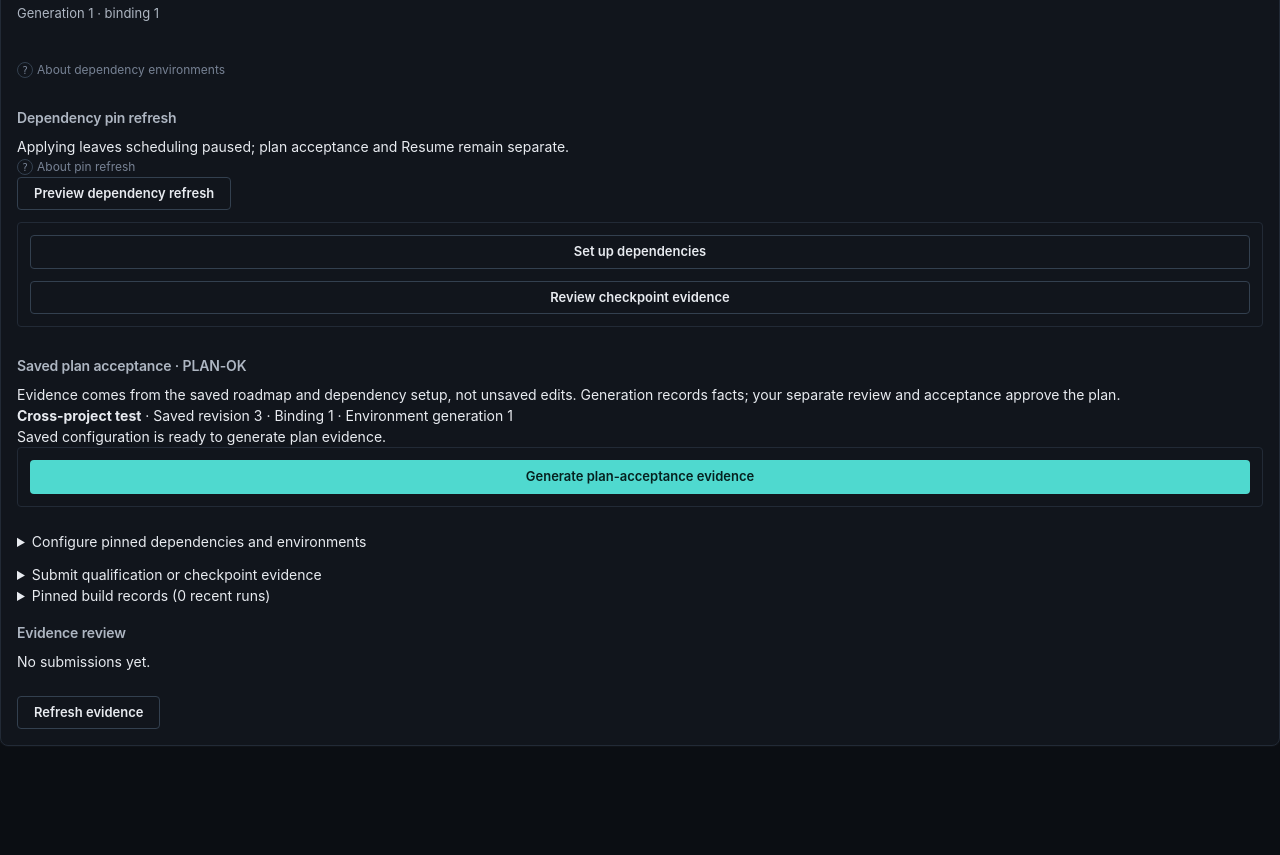
Test: separates saved readiness, evidence generation and explicit independent plan acceptance
Check: the text "Saved configuration is ready to generate plan evidence." is shown, box [17,428,386,445]
Check: the heading "Saved plan acceptance · PLAN-OK" is shown, box [17,357,246,374]
Step 1. Click the button "Generate plan-acceptance evidence" → (640, 477), box [30,460,1250,494]
(page scrolled)
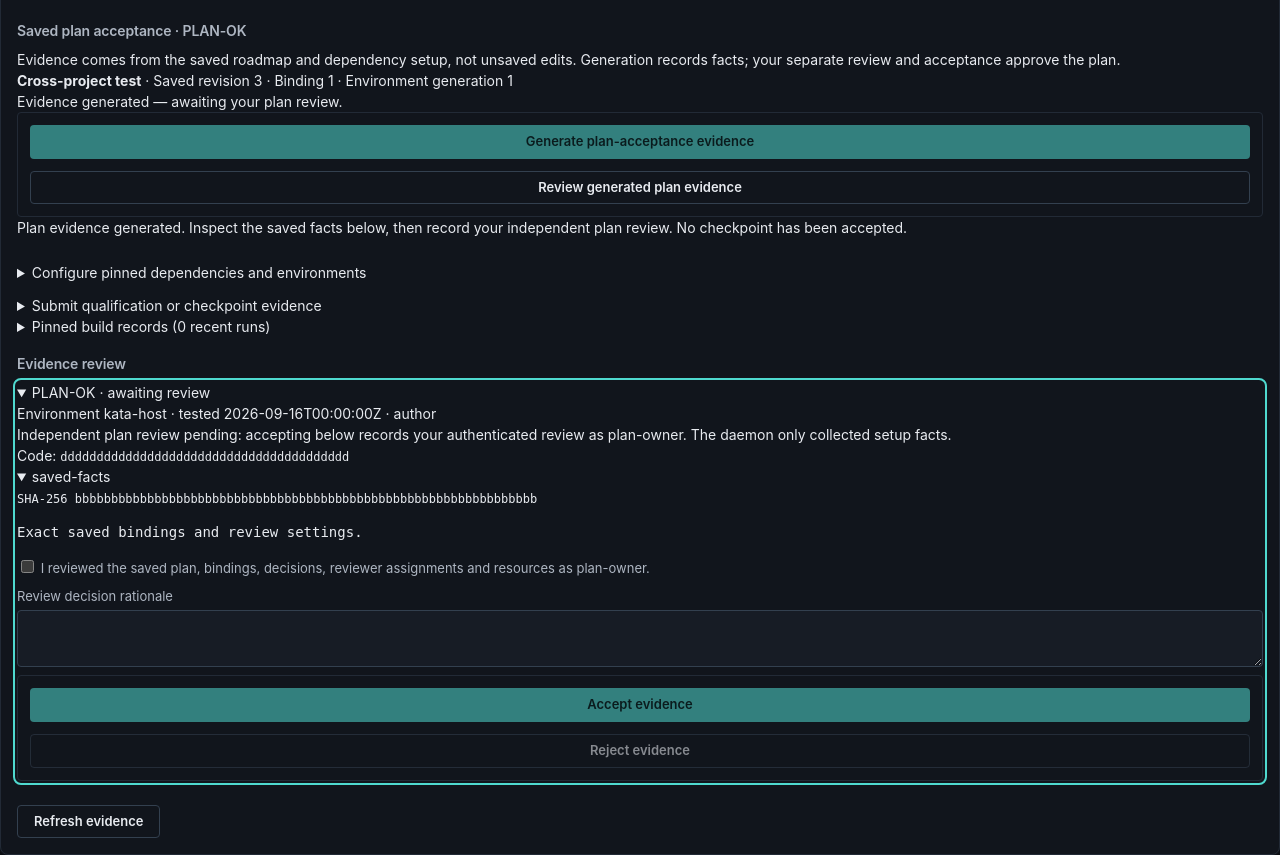
Check: the text "Evidence generated — awaiting your plan review." is shown, box [17,93,342,110]
Check: the text "records your authenticated review as plan-owner." is shown, box [17,426,952,444]
Step 2. Type "Reviewed saved configuration." into the text box labelled "Review decision rationale" → (640, 639), box [17,610,1263,668]
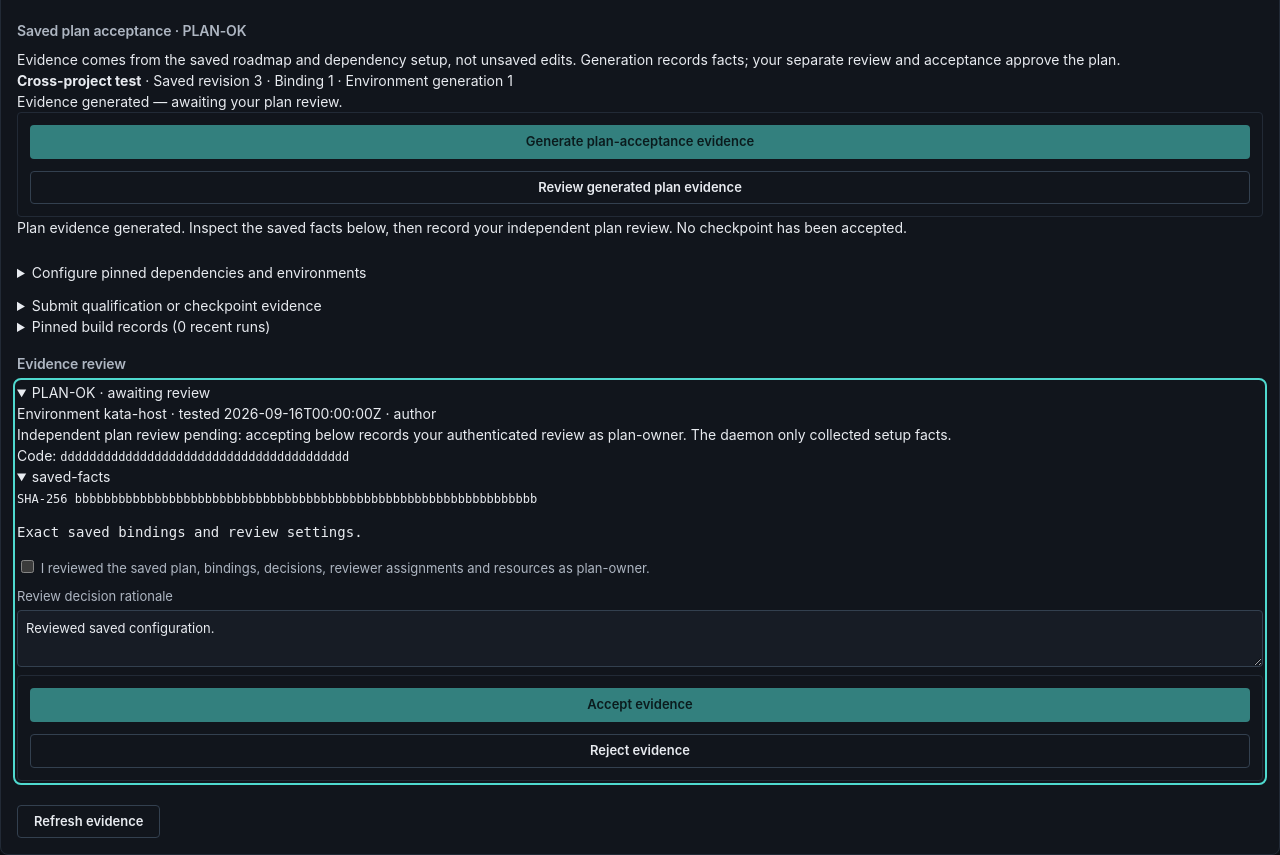
Check: the button "Accept evidence" is disabled, box [30,688,1250,722]
Check: the text "Exact saved bindings and review settings." is shown, box [17,524,363,540]
Step 3. Click the checkbox → (28, 567), box [21,560,34,574]
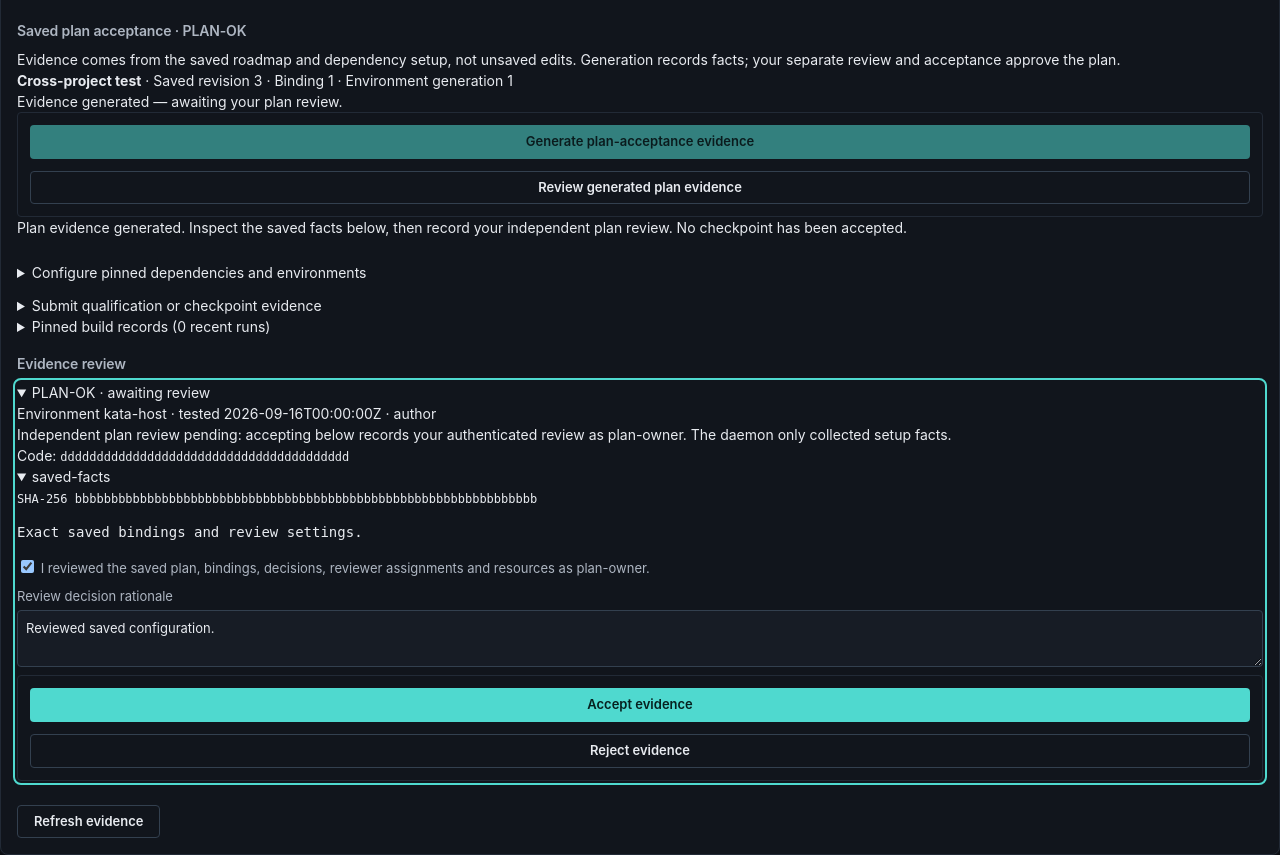
Check: the button "Accept evidence" is enabled
Step 4. Click the button "Accept evidence" → (640, 705), box [30,688,1250,722]
(page scrolled)
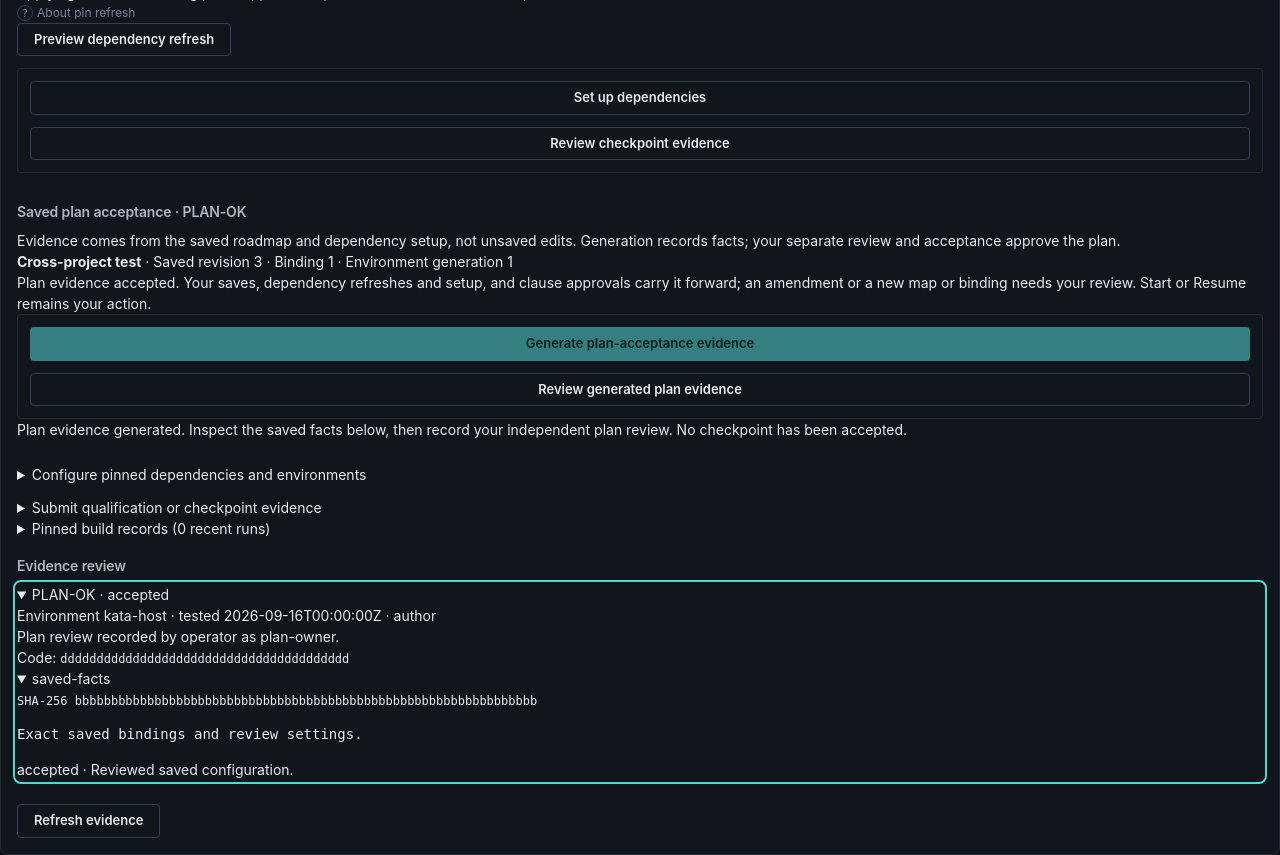
Check: the text "Plan evidence accepted. Your saves, dependency refreshes and setup, and clause approvals carry it forward; an amendment " is shown, box [17,274,1246,312]
Check: the text "Plan review recorded by operator as plan-owner." is shown, box [17,628,339,646]
